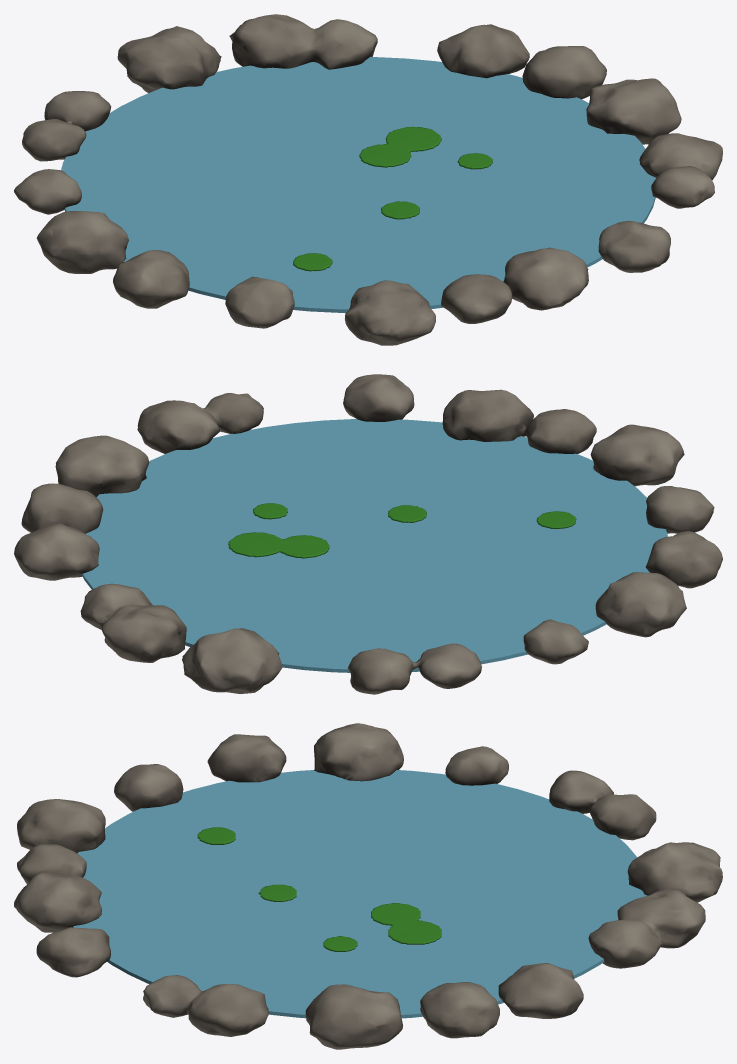
File: pond.glb
The picture shows the model from 3 angles, top to bottom: view 1: azimuth 30°, elevation 25°; view 2: azimuth 150°, elevation 25°; view 3: azimuth 270°, elevation 25°; orthographic projection.
Visible parts, largest first — view 1: Cylinder, pond_rocks, lily_pads; view 2: Cylinder, pond_rocks, lily_pads; view 3: Cylinder, pond_rocks, lily_pads.
Part boxes in pixels (x1,y1,x2,y2): Cylinder: (61, 57, 655, 312); pond_rocks: (14, 14, 722, 345); lily_pads: (293, 126, 492, 271); Cylinder: (82, 419, 667, 672); pond_rocks: (14, 374, 722, 694); lily_pads: (228, 503, 576, 558); Cylinder: (73, 770, 647, 1018); pond_rocks: (14, 723, 722, 1049); lily_pads: (197, 827, 441, 951).
Size of the model in its own units: 7.47 by 0.6485 by 7.48.
